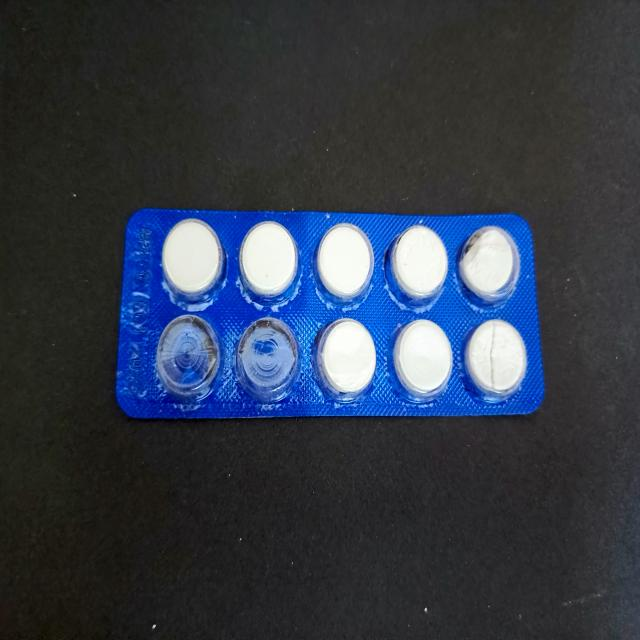defect: (154, 312, 224, 404), (235, 314, 304, 405), (462, 315, 530, 403), (458, 221, 522, 308)
